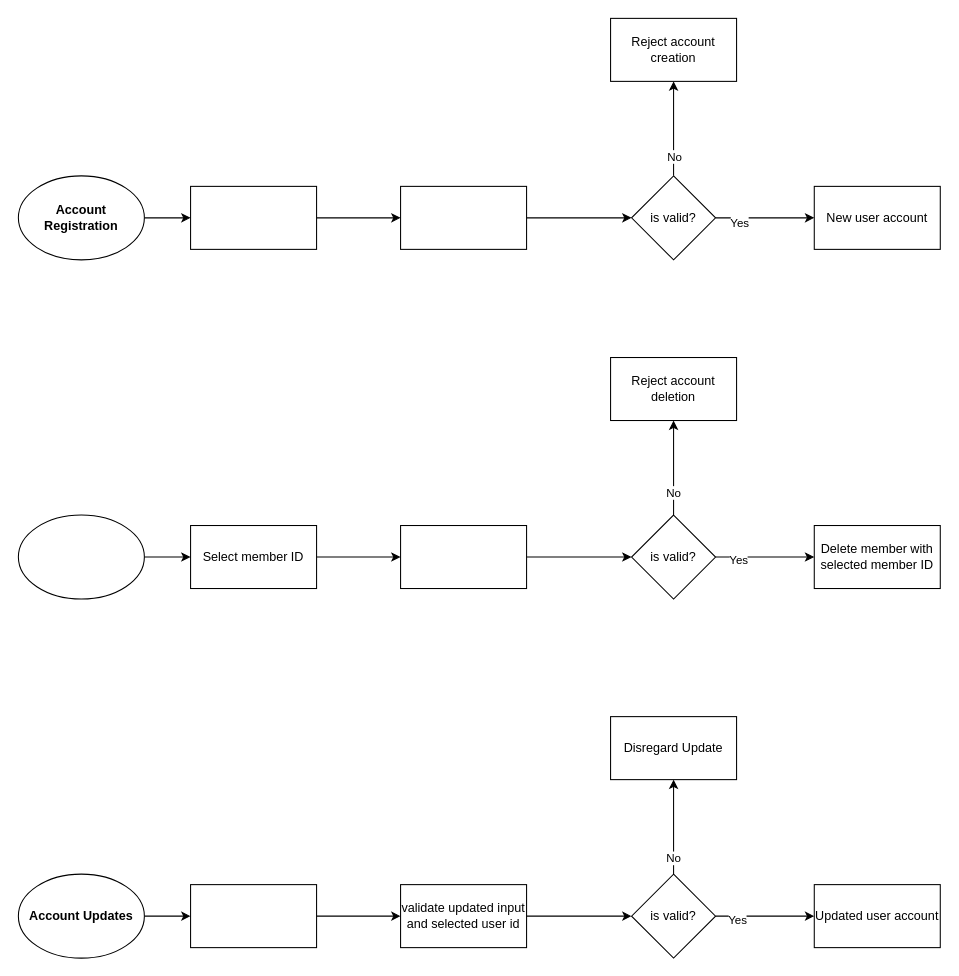
This 959x976 diagram has some shape labels left out. The centre of each missing label's shape, as x and y in pixels:
Account Deletion: [80,556]
Fill up email, password, and select role: [253,217]
Fill up update email, password, and role: [253,916]
Validate selected ID if exists: [463,556]
validate user input: [463,217]
